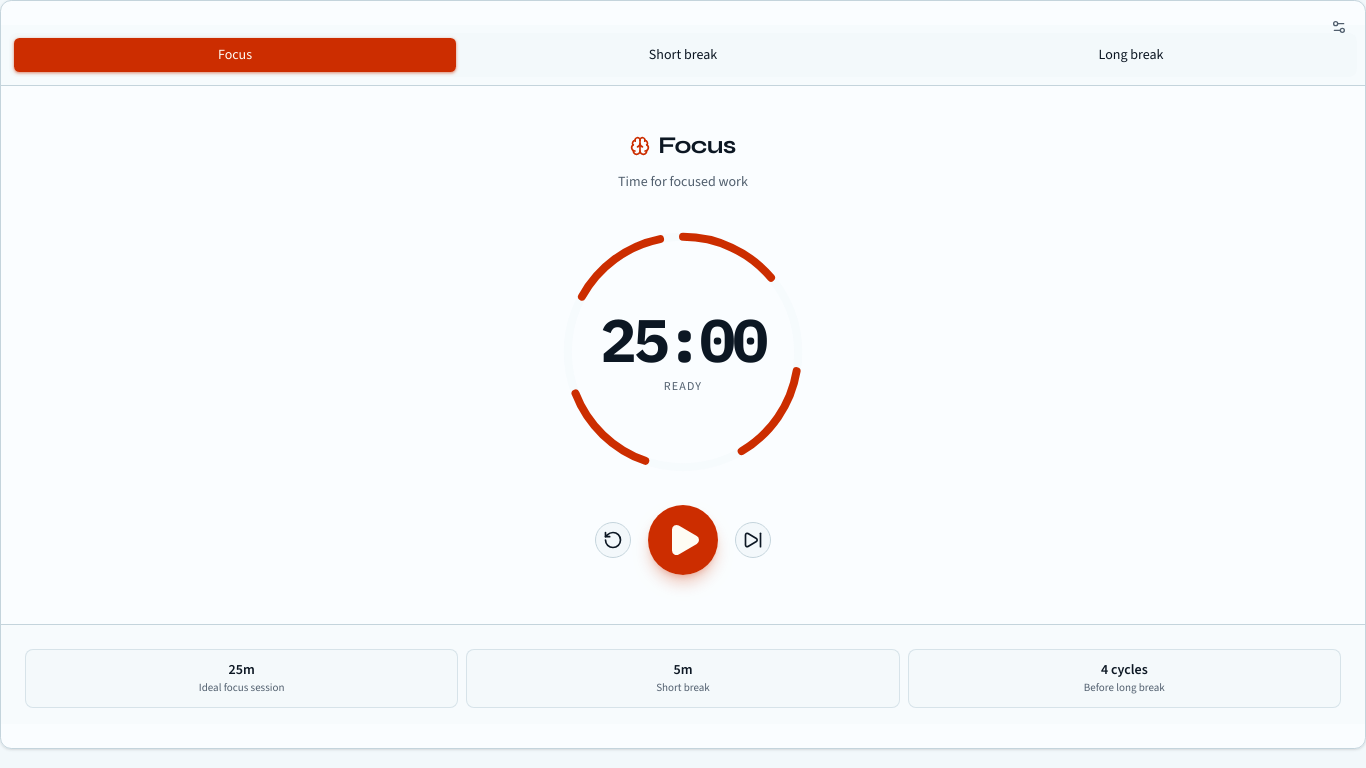
Test: Component: PomodoroTimer › Play/Pause control › reverts status to 'Ready' after pausing
Click the button named "Start timer": (683, 540) [647,504,719,576]
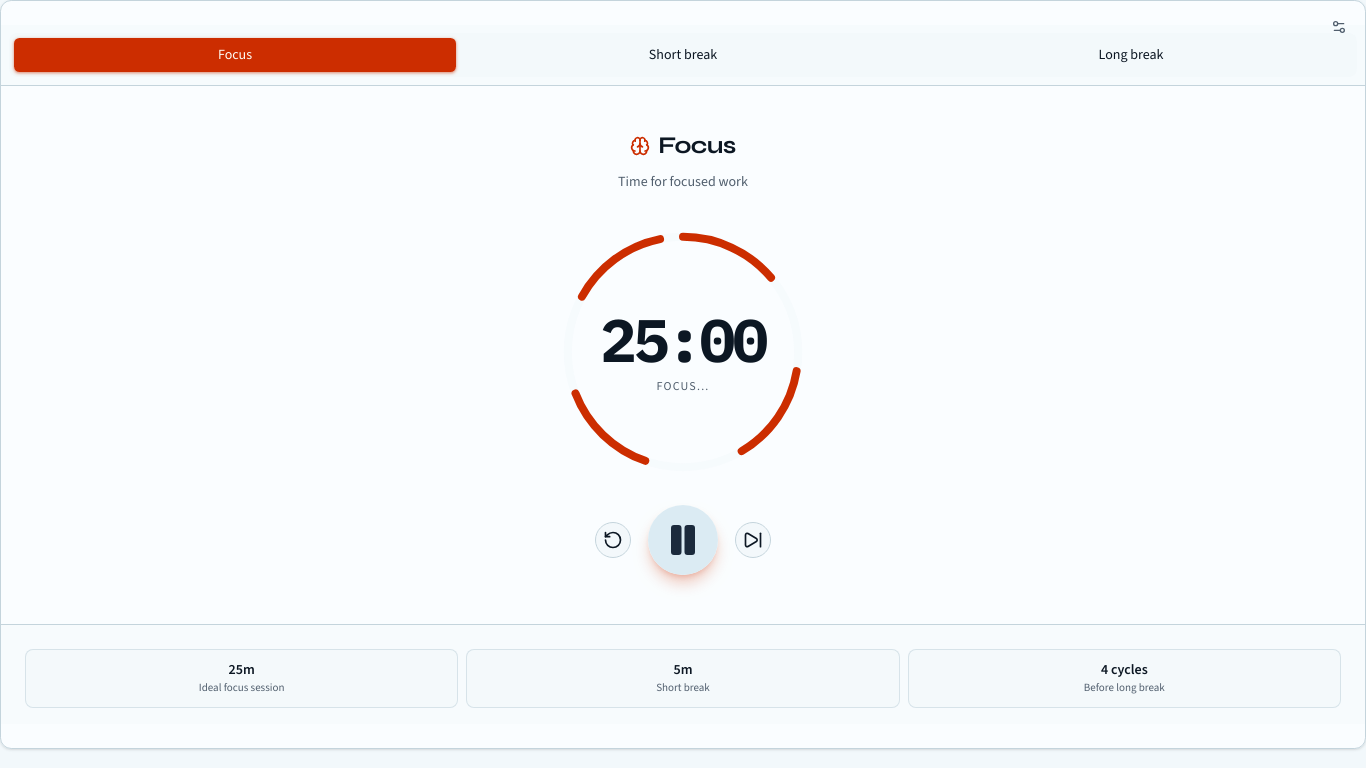
Click the button named "Pause timer": (683, 540) [647,504,719,576]
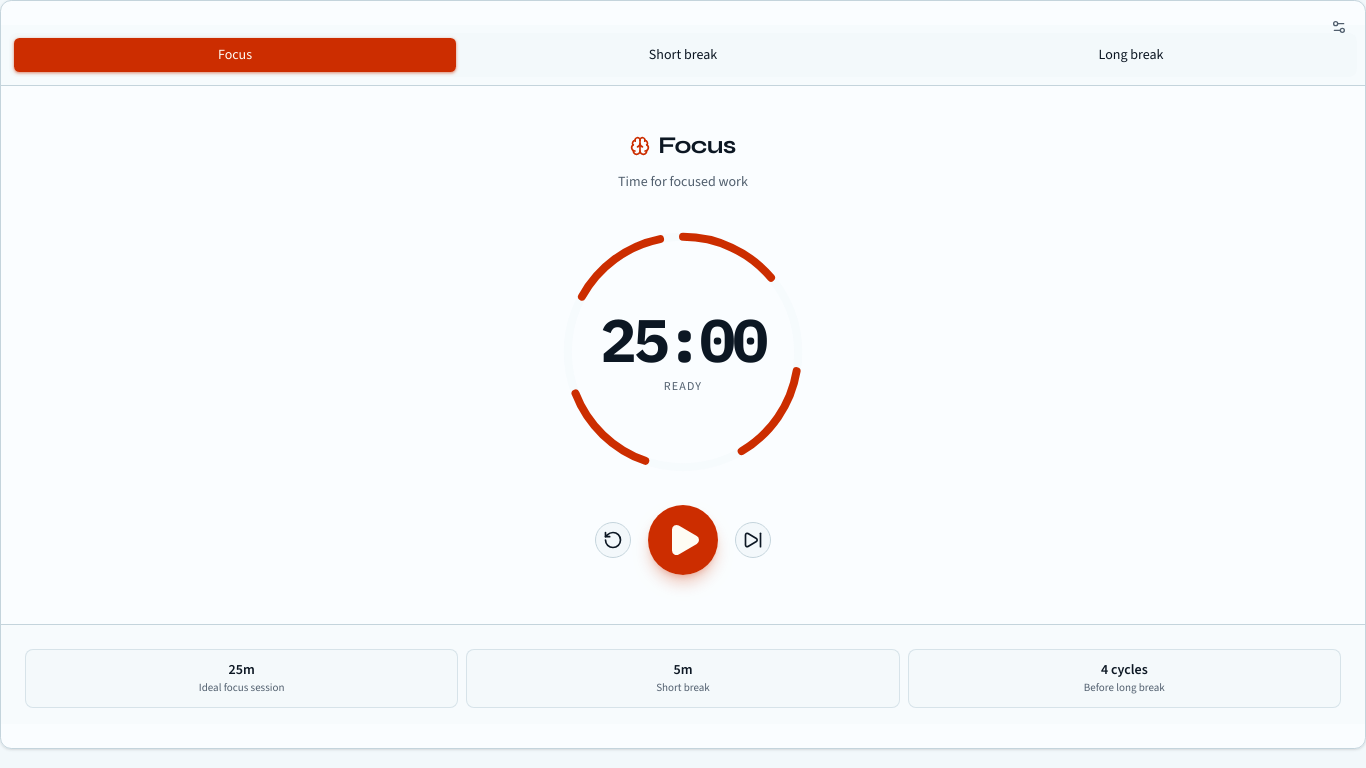
Expected: the text "Ready" is shown, [664,378,702,394]
